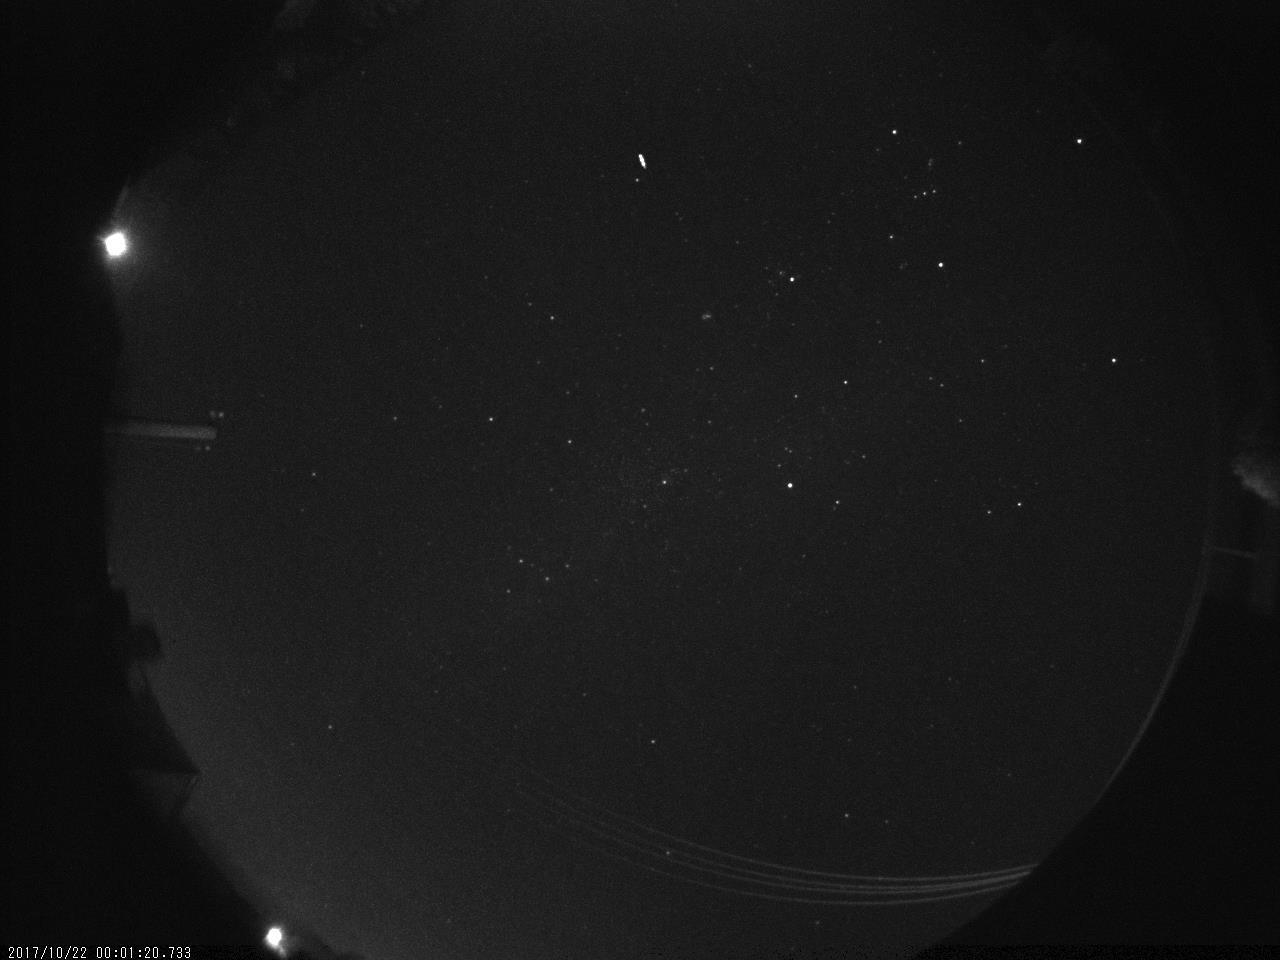Meteor: (635, 146, 652, 173)
